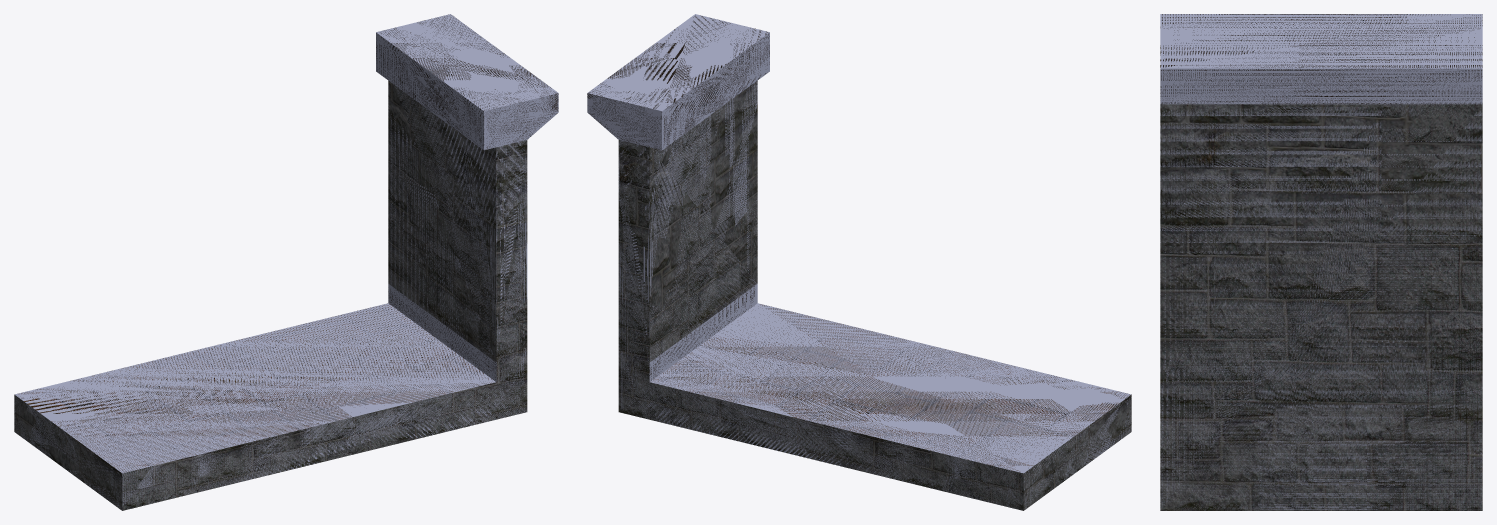
File: IS_26_PLAT.fbx
3 renders of one model, left to right at view 1: azimuth 30°, elevation 25°; view 2: azimuth 150°, elevation 25°; view 3: azimuth 270°, elevation 25°, orthographic. The views are drawn at different scales.
Parts seen in each view (by area): view 1: Group1; view 2: Group1; view 3: Group1.
Part boxes in pixels (bbox=[...]): Group1: bbox=[14, 14, 558, 510]; Group1: bbox=[587, 14, 1131, 510]; Group1: bbox=[1160, 14, 1482, 510].
Size of the model in its own units: 70 by 47.75 by 30.
